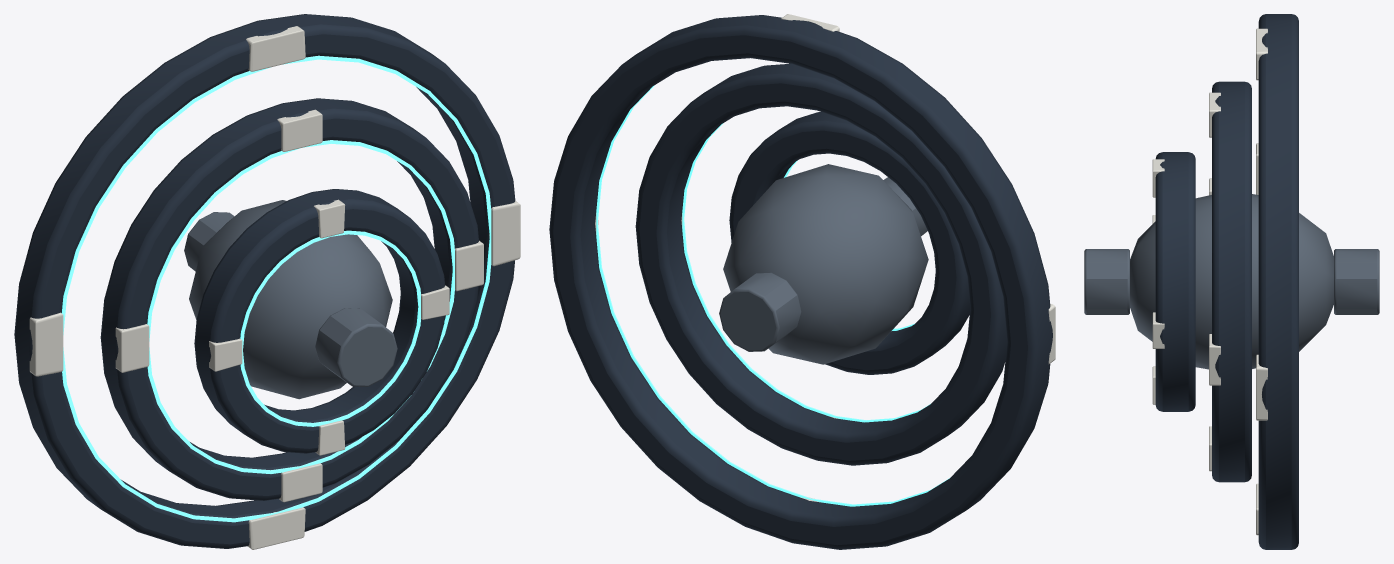
Rendered from agent_loop.glb.
The picture shows the model from 3 angles, left to right: view 1: azimuth 30°, elevation 25°; view 2: azimuth 150°, elevation 25°; view 3: azimuth 270°, elevation 25°; orthographic projection. The views are drawn at different scales.
Visible parts, largest first — view 1: agent_loop__ring_turn, agent_loop__ring_step, agent_loop__ring_execution, agent_loop__core, agent_loop__ring_turn_emissive, agent_loop__axle__02, agent_loop__ring_step_emissive, agent_loop__ring_execution_emissive, agent_loop__ring_turn_armor, agent_loop__ring_step_armor, agent_loop__axle, agent_loop__ring_execution_armor; view 2: agent_loop__ring_turn, agent_loop__ring_step, agent_loop__core, agent_loop__ring_execution, agent_loop__axle, agent_loop__ring_turn_emissive, agent_loop__ring_step_emissive; view 3: agent_loop__ring_turn, agent_loop__ring_step, agent_loop__ring_execution, agent_loop__core, agent_loop__axle, agent_loop__axle__02, agent_loop__ring_turn_armor, agent_loop__ring_step_armor.
Part boxes in pixels (x1=…): agent_loop__ring_turn: x1=14, y1=14, x2=515, y2=549; agent_loop__ring_step: x1=100, y1=98, x2=478, y2=502; agent_loop__ring_execution: x1=194, y1=189, x2=445, y2=455; agent_loop__core: x1=189, y1=200, x2=392, y2=399; agent_loop__ring_turn_emissive: x1=61, y1=55, x2=491, y2=522; agent_loop__axle__02: x1=315, y1=308, x2=397, y2=386; agent_loop__ring_step_emissive: x1=147, y1=140, x2=454, y2=473; agent_loop__ring_execution_emissive: x1=240, y1=230, x2=420, y2=426; agent_loop__ring_turn_armor: x1=489, y1=201, x2=520, y2=266; agent_loop__ring_step_armor: x1=455, y1=240, x2=483, y2=291; agent_loop__axle: x1=184, y1=212, x2=234, y2=271; agent_loop__ring_execution_armor: x1=421, y1=285, x2=449, y2=319; agent_loop__ring_turn: x1=549, y1=14, x2=1055, y2=549; agent_loop__ring_step: x1=635, y1=63, x2=1007, y2=465; agent_loop__core: x1=723, y1=164, x2=928, y2=364; agent_loop__ring_execution: x1=729, y1=112, x2=970, y2=374; agent_loop__axle: x1=719, y1=272, x2=801, y2=351; agent_loop__ring_turn_emissive: x1=596, y1=85, x2=949, y2=506; agent_loop__ring_step_emissive: x1=682, y1=123, x2=930, y2=422; agent_loop__ring_turn: x1=1256, y1=14, x2=1298, y2=549; agent_loop__ring_step: x1=1209, y1=81, x2=1251, y2=482; agent_loop__ring_execution: x1=1152, y1=152, x2=1195, y2=411; agent_loop__core: x1=1130, y1=194, x2=1333, y2=369; agent_loop__axle: x1=1334, y1=249, x2=1379, y2=314; agent_loop__axle__02: x1=1084, y1=249, x2=1129, y2=314; agent_loop__ring_turn_armor: x1=1256, y1=354, x2=1267, y2=420; agent_loop__ring_step_armor: x1=1209, y1=334, x2=1220, y2=385.
Size of the model in its own units: 4 by 4 by 2.2.
